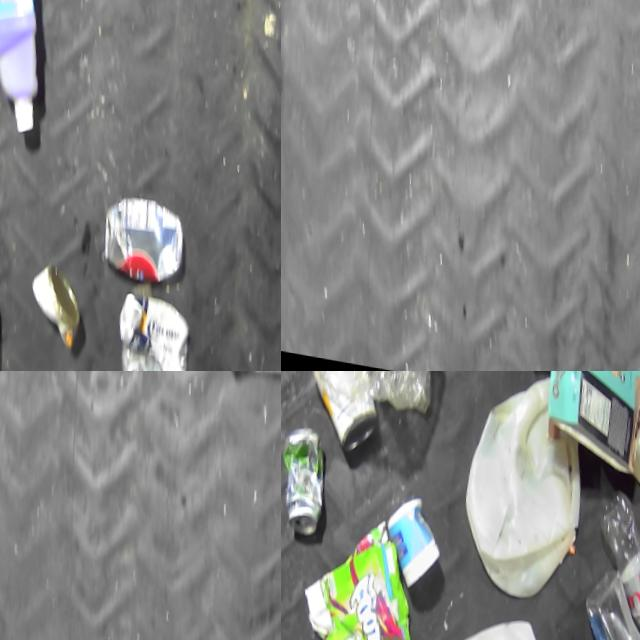can: (88, 182, 173, 276), (310, 371, 382, 451), (16, 257, 77, 341), (281, 421, 326, 529)
milk_jug: (447, 371, 596, 598), (391, 597, 559, 640)
non_white_jug: (0, 0, 59, 99), (611, 371, 640, 490)
plastic_bottle: (581, 481, 640, 640), (565, 543, 640, 640)
